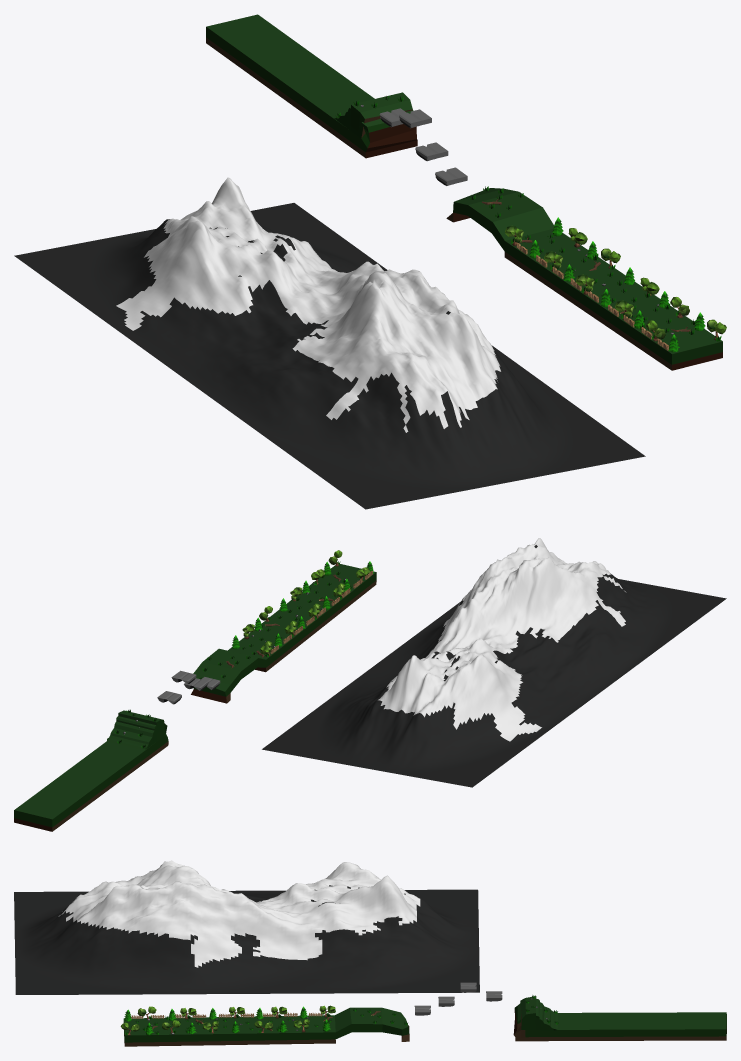
Rendered from platform1.glb.
The picture shows the model from 3 angles, top to bottom: view 1: azimuth 30°, elevation 25°; view 2: azimuth 150°, elevation 25°; view 3: azimuth 270°, elevation 25°; orthographic projection. The views are drawn at different scales.
Parts seen in each view (by area): view 1: Landscape.004, Cube, Cube.029; view 2: Landscape.004, Cube.029, Cube; view 3: Landscape.004, Cube, Cube.029.
Part boxes in pixels (x1,y1,x2,y2): Landscape.004: (14,177,645,509); Cube: (446,188,722,370); Cube.029: (206,14,417,158); Landscape.004: (262,538,726,787); Cube.029: (14,710,168,831); Cube: (191,564,376,703); Landscape.004: (14,860,479,994); Cube: (123,1007,409,1046); Cube.029: (513,996,726,1041).
Size of the model in its own units: 207 by 55.47 by 426.
Materials: 18 (7 with a texture image).
